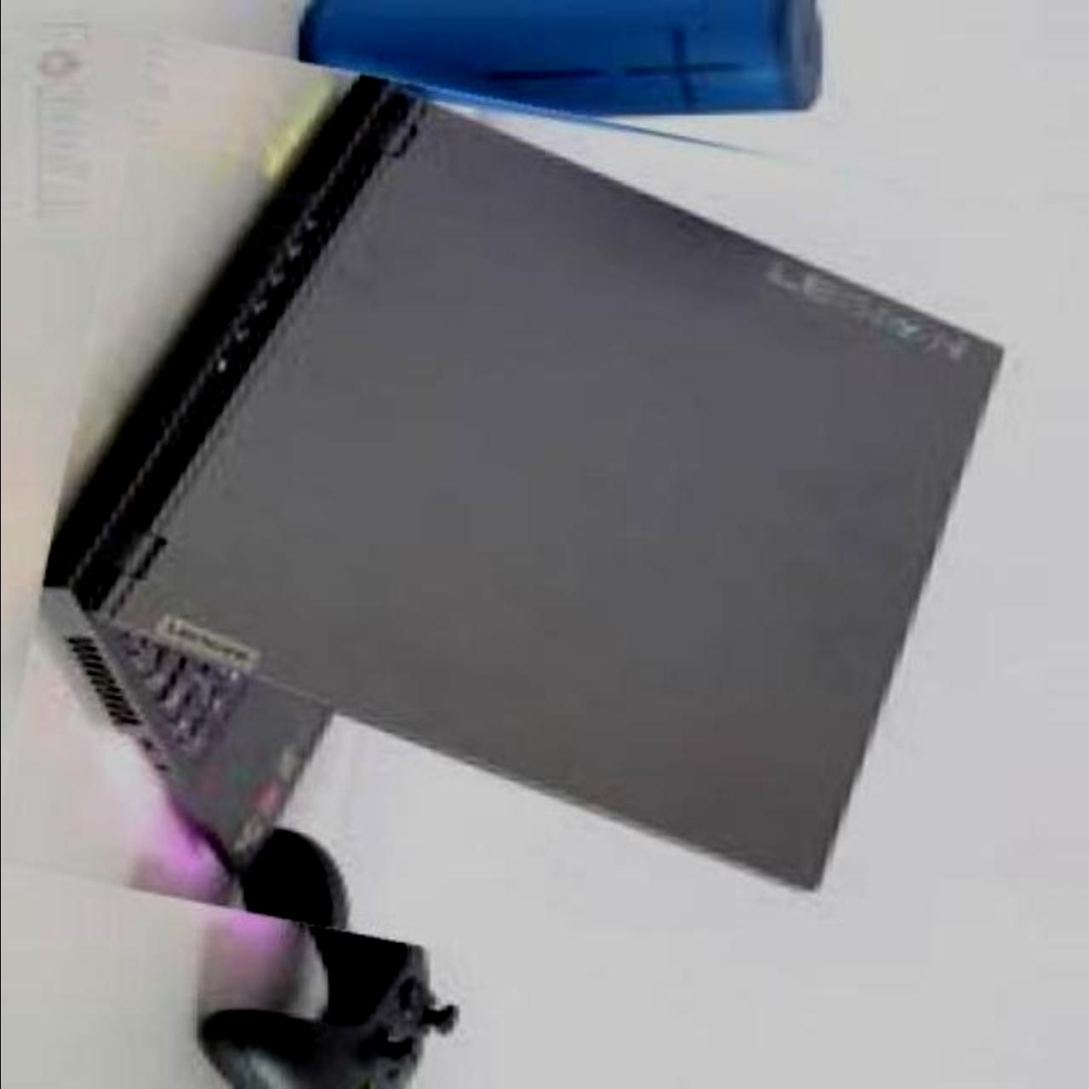laptop: (25, 73, 1034, 999)
